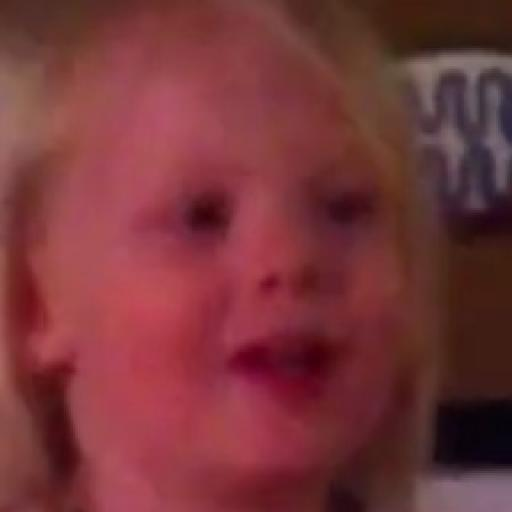Autism: (40, 37, 466, 495)
